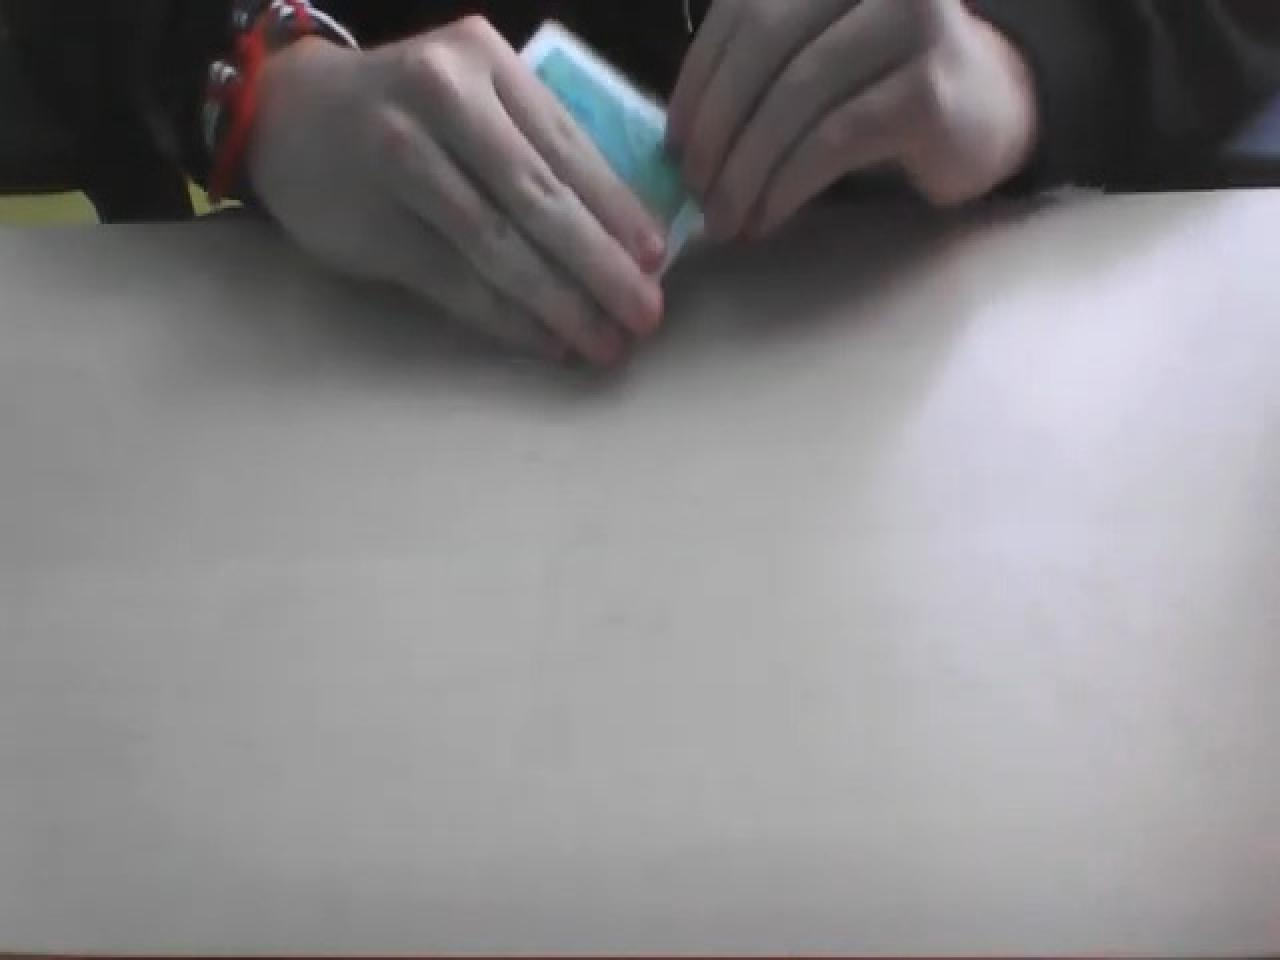100leva: (514, 16, 708, 282), (196, 0, 364, 211)
